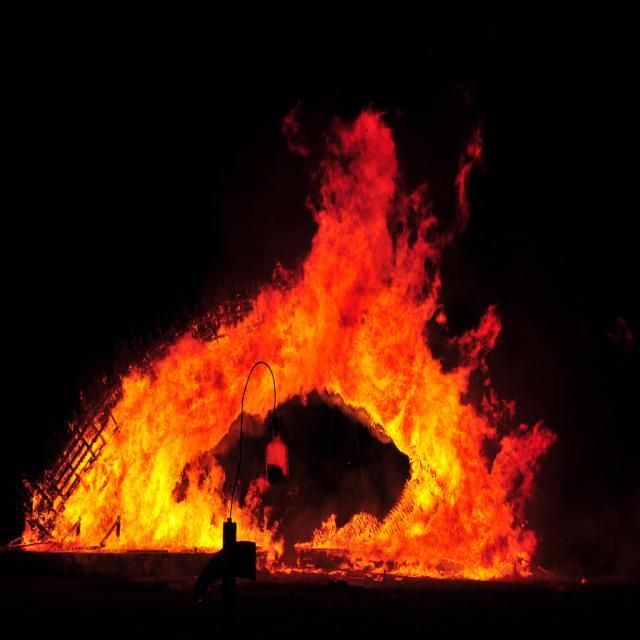Fire: (117, 339, 248, 549), (300, 210, 421, 402), (408, 418, 514, 572), (102, 526, 116, 550)
